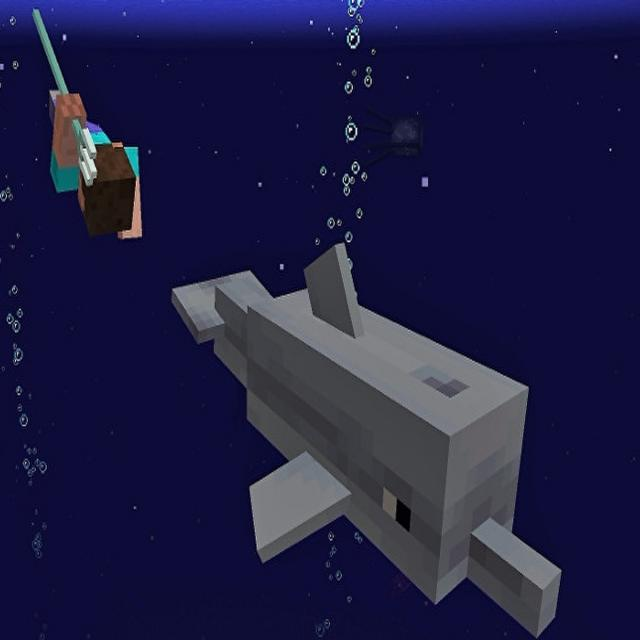Dolphin: (164, 240, 565, 640)
